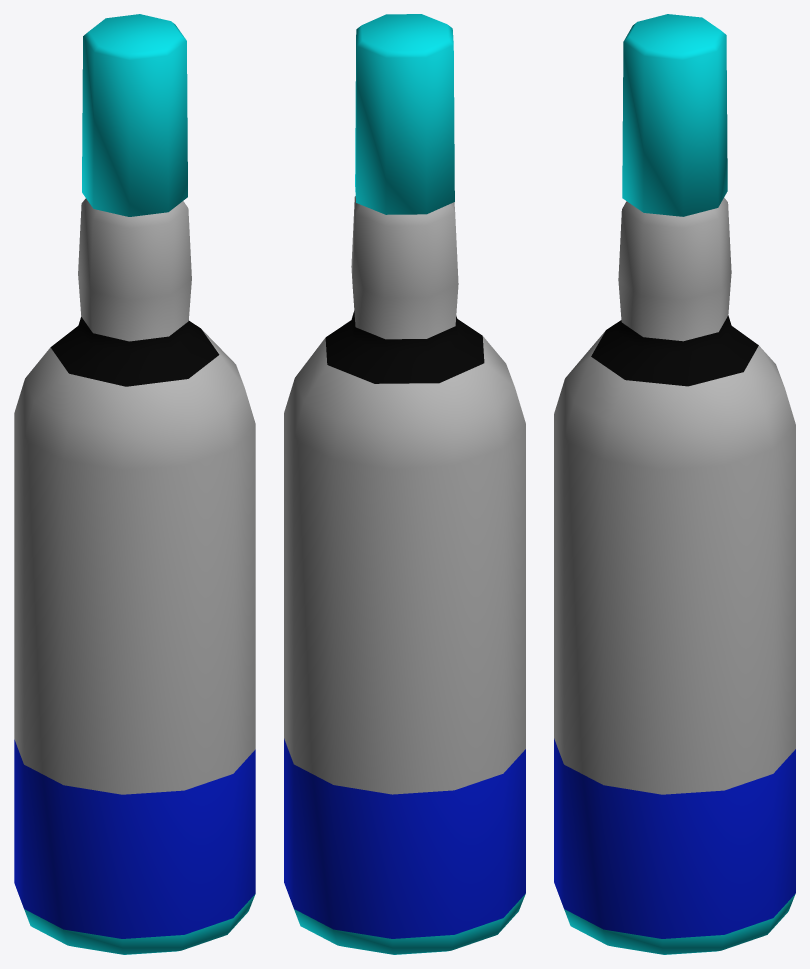
Rendered from IcyCool.fbx.
3 renders of one model, left to right at view 1: azimuth 30°, elevation 25°; view 2: azimuth 150°, elevation 25°; view 3: azimuth 270°, elevation 25°, orthographic.
Visible parts, largest first — view 1: IcyCool; view 2: IcyCool; view 3: IcyCool.
Part boxes in pixels (box(x1,y1,x2,y2)): IcyCool: box(14, 14, 255, 954); IcyCool: box(284, 14, 525, 954); IcyCool: box(554, 14, 795, 954).
Size of the model in its own units: 6.91 by 27.73 by 6.91.
